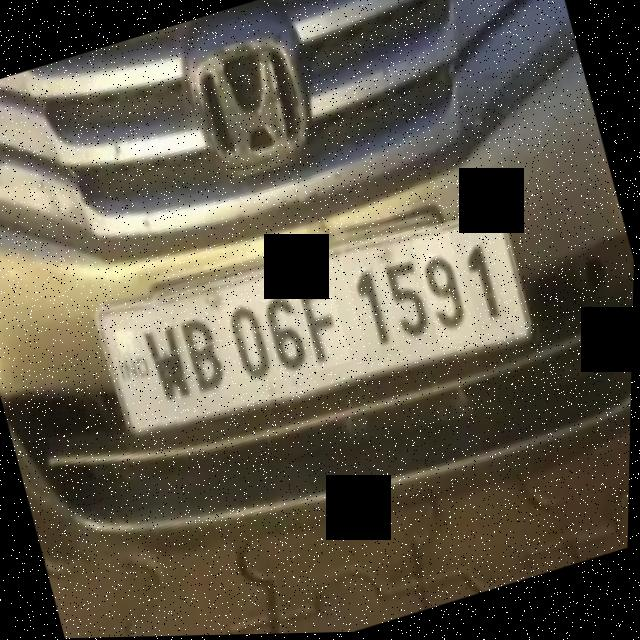0: (220, 290, 283, 392)
1: (341, 251, 401, 364), (455, 231, 512, 334)
5: (374, 243, 442, 353)
6: (255, 279, 318, 382)
9: (410, 228, 480, 351)
B: (173, 302, 240, 406)
F: (291, 267, 354, 373)
W: (137, 312, 202, 415)
